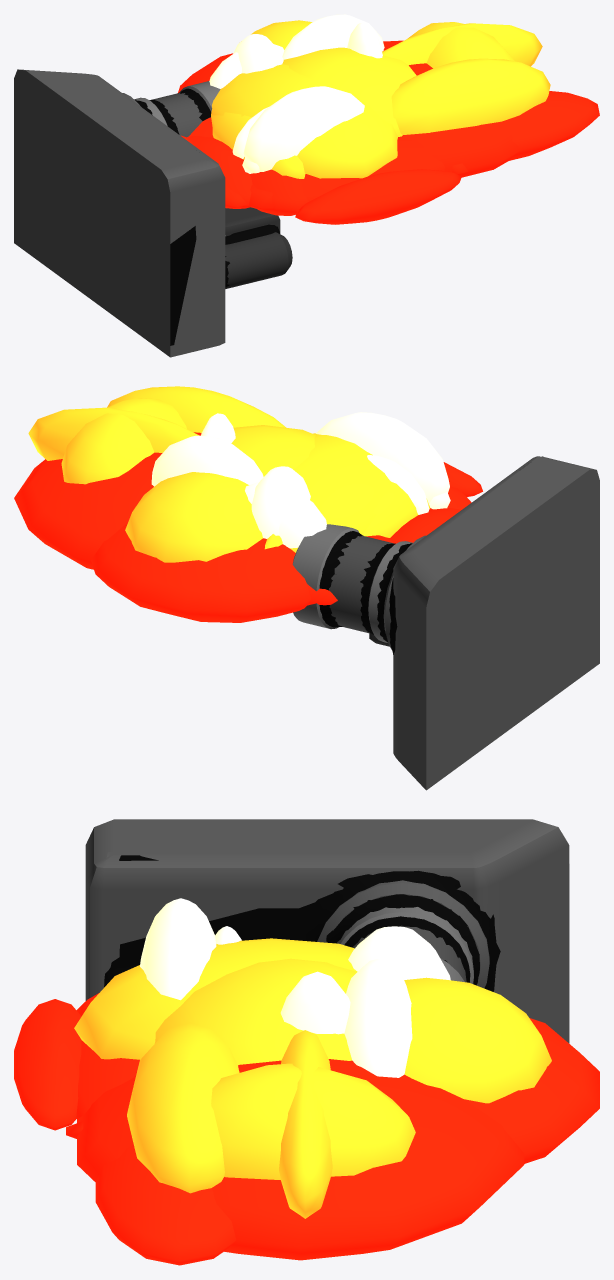
The model's file is newshl-155.glb.
3 views of the same model, one above another, from view 1: azimuth 30°, elevation 25°; view 2: azimuth 150°, elevation 25°; view 3: azimuth 270°, elevation 25° (orthographic). The views are drawn at different scales.
Visible parts, largest first — view 1: newshl-155-flash-159.001, newshl-155, newshl-155-flash-157.001, newshl-155_outline; view 2: newshl-155-flash-159.001, newshl-155, newshl-155-flash-157.001, newshl-155_outline; view 3: newshl-155-flash-159.001, newshl-155, newshl-155_outline, newshl-155-flash-157.001.
Boxes of the visible parts, bbox=[...] form: newshl-155-flash-159.001: bbox=[178, 14, 599, 224]; newshl-155: bbox=[14, 69, 292, 357]; newshl-155-flash-157.001: bbox=[181, 44, 308, 215]; newshl-155_outline: bbox=[135, 88, 280, 345]; newshl-155-flash-159.001: bbox=[14, 386, 482, 622]; newshl-155: bbox=[292, 456, 599, 790]; newshl-155-flash-157.001: bbox=[245, 455, 471, 605]; newshl-155_outline: bbox=[319, 531, 412, 654]; newshl-155-flash-159.001: bbox=[14, 898, 599, 1265]; newshl-155: bbox=[85, 819, 569, 1042]; newshl-155_outline: bbox=[104, 855, 569, 1043]; newshl-155-flash-157.001: bbox=[76, 926, 432, 1014].
Bounding box in the file's own units: 1.94 × 0.8674 × 1.39.
